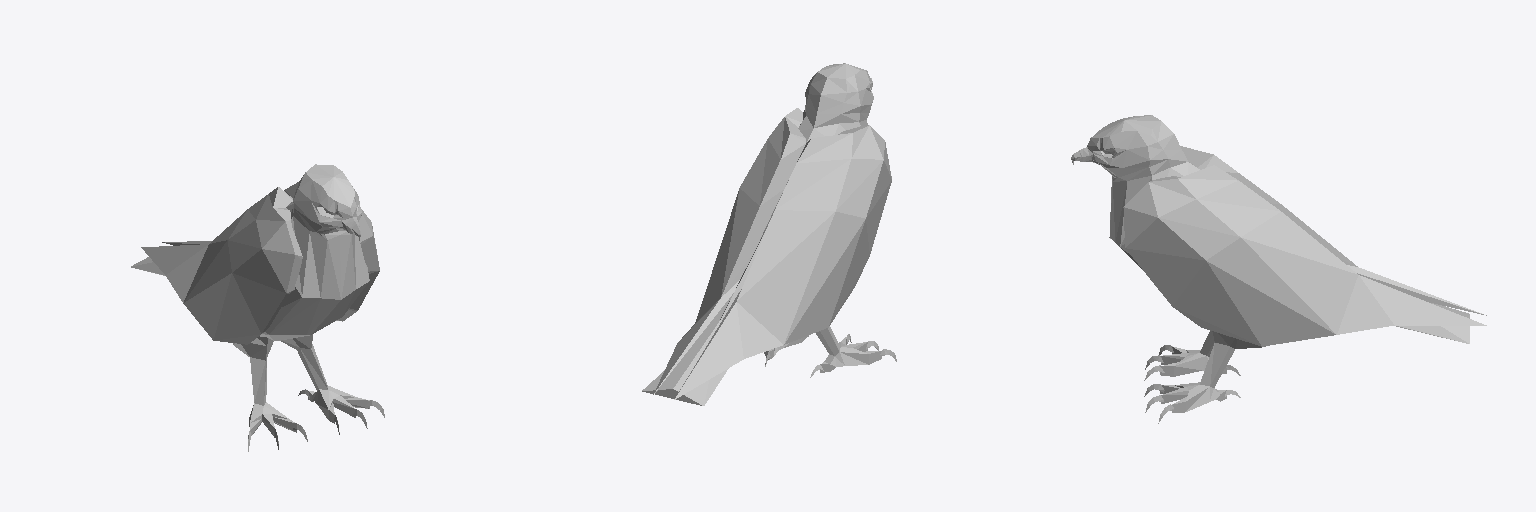
The model's file is redTailedHawk_static.obj.
The picture shows the model from 3 angles: view 1: azimuth 30°, elevation 25°; view 2: azimuth 150°, elevation 25°; view 3: azimuth 270°, elevation 25°; orthographic projection.
Parts seen in each view (by area): view 1: readTailedHawk_01 wing_down_5, Body_01 readTailedHawk_01, readTailedHawk_01 foot1; view 2: readTailedHawk_01 wing_down_5, Body_01 readTailedHawk_01, readTailedHawk_01 foot1; view 3: readTailedHawk_01 wing_down_5, Body_01 readTailedHawk_01, readTailedHawk_01 foot1.
Part boxes in pixels (bbox=[...]): readTailedHawk_01 wing_down_5: bbox=[141, 182, 379, 344]; Body_01 readTailedHawk_01: bbox=[131, 164, 369, 340]; readTailedHawk_01 foot1: bbox=[233, 334, 384, 451]; readTailedHawk_01 wing_down_5: bbox=[653, 108, 891, 399]; Body_01 readTailedHawk_01: bbox=[642, 63, 873, 405]; readTailedHawk_01 foot1: bbox=[764, 326, 896, 377]; readTailedHawk_01 wing_down_5: bbox=[1123, 146, 1486, 346]; Body_01 readTailedHawk_01: bbox=[1071, 115, 1469, 343]; readTailedHawk_01 foot1: bbox=[1144, 331, 1265, 423].
Size of the model in its own units: 0.3115 by 0.5897 by 0.8236.